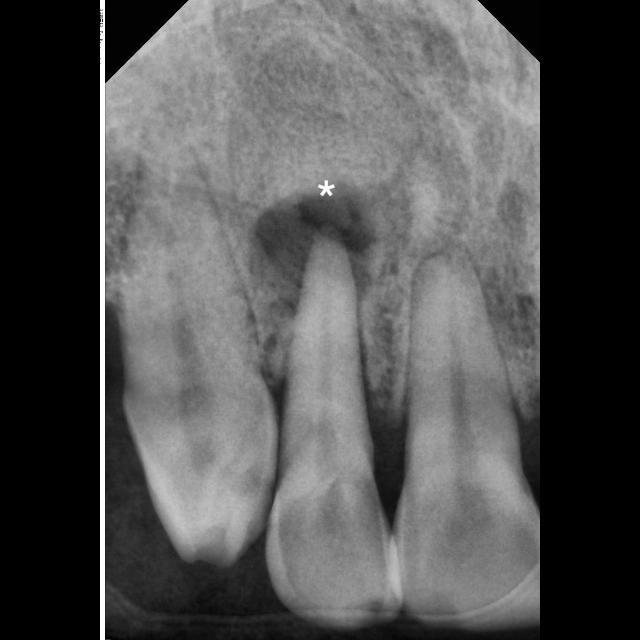test-segment: (267, 233, 400, 626)
